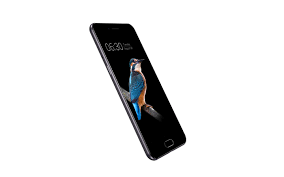bphone: (83, 17, 188, 168)
